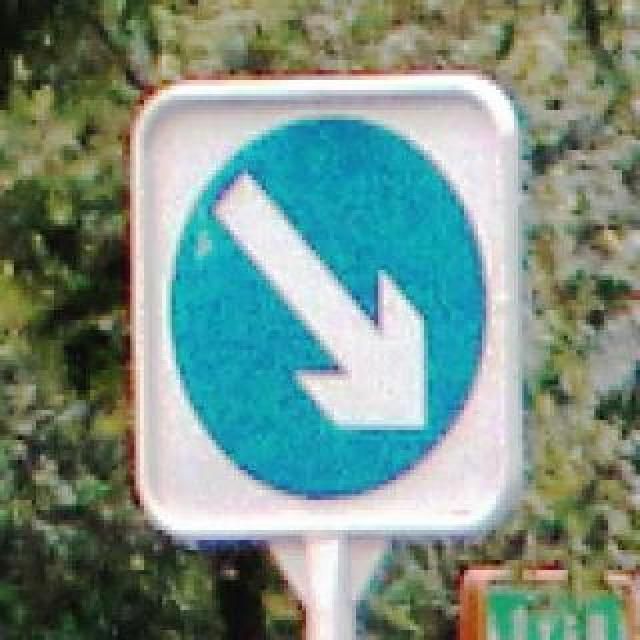keep right: (158, 100, 490, 500)
